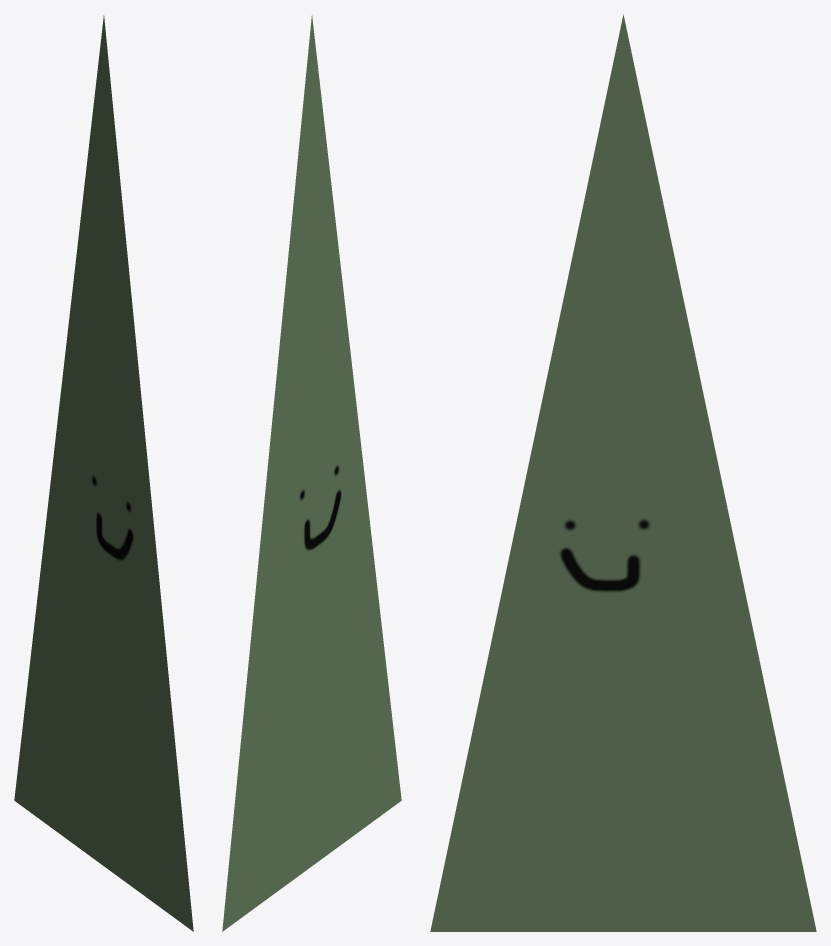
Rendered from Grass.glb.
3 renders of one model, left to right at view 1: azimuth 30°, elevation 25°; view 2: azimuth 150°, elevation 25°; view 3: azimuth 270°, elevation 25°, orthographic. The views are drawn at different scales.
Parts seen in each view (by area): view 1: Plane; view 2: Plane; view 3: Plane.
Part boxes in pixels (bbox=[...]): Plane: bbox=[14, 15, 193, 931]; Plane: bbox=[222, 15, 401, 931]; Plane: bbox=[430, 14, 816, 931].
Bounding box in the file's own units: 3.77e-08 × 1.31 × 0.5.
Materials: 1 (1 with a texture image).
